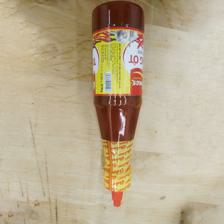Tuong: (90, 1, 147, 208)
